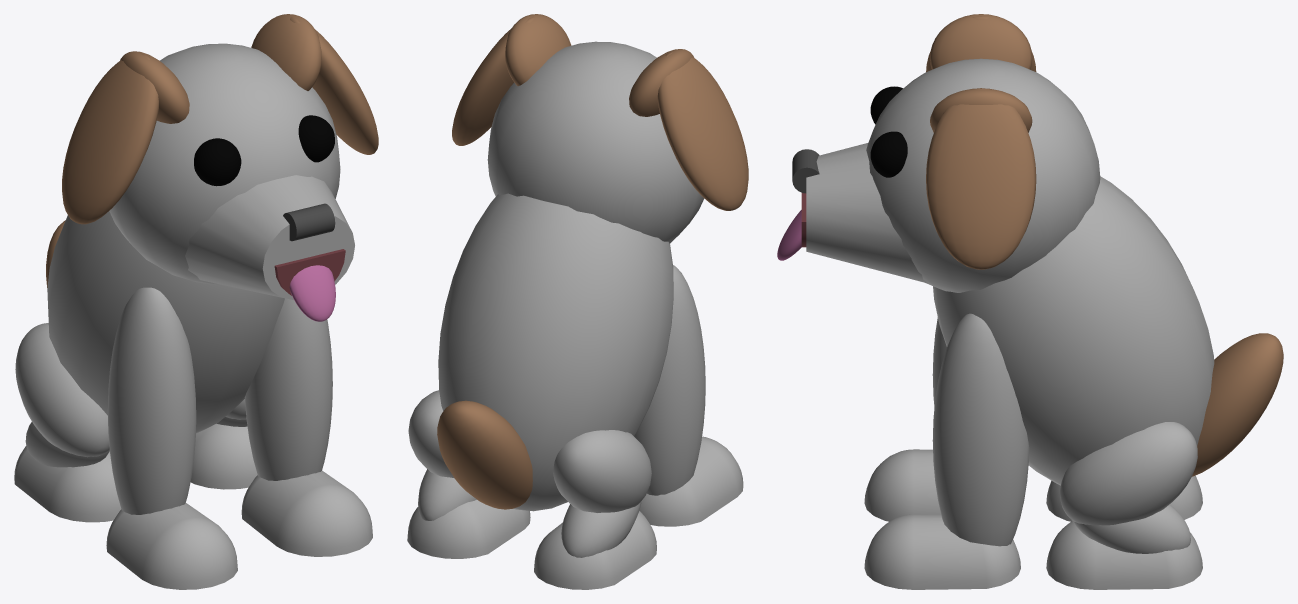
Rendered from Dog.fbx.
3 renders of one model, left to right at view 1: azimuth 30°, elevation 25°; view 2: azimuth 150°, elevation 25°; view 3: azimuth 270°, elevation 25°, orthographic. The views are drawn at different scales.
Parts seen in each view (by area): view 1: pSphere5, pSphere1, pSphere3, pasted__pSphere4, pasted__pSphere8, pCylinder1, pSphere4, pasted__pSphere3, pSphere8, pSphere2, pSphere7, pasted__pasted__pSphere3 (+2 smaller); view 2: pSphere3, pSphere1, pasted__pSphere8, pSphere4, pSphere5, pasted__pSphere3, pSphere6, pSphere8, pasted__pSphere4, pasted__pasted__pSphere3; view 3: pSphere3, pSphere1, pSphere5, pasted__pSphere8, pasted__pSphere4, pasted__pSphere3, pCylinder1, pSphere4, pSphere6, pSphere8, pasted__pasted__pSphere3, pSphere2 (+2 smaller).
Part boxes in pixels (x1,y1,x2,y2): pSphere5: (107,287,332,514); pSphere1: (109,43,340,284); pSphere3: (47,211,284,433); pasted__pSphere4: (106,470,372,589); pasted__pSphere8: (62,17,378,224); pCylinder1: (185,175,354,299); pSphere4: (14,423,257,522); pasted__pSphere3: (15,323,246,457); pSphere8: (120,14,321,123); pSphere2: (194,115,334,186); pSphere7: (289,265,335,321); pasted__pasted__pSphere3: (25,417,247,467); pSphere3: (438,193,673,511); pSphere1: (487,41,704,243); pasted__pSphere8: (452,16,748,210); pSphere4: (407,500,656,589); pSphere5: (634,265,705,495); pasted__pSphere3: (408,390,651,512); pSphere6: (437,400,532,509); pSphere8: (505,14,693,116); pasted__pSphere4: (639,436,743,526); pasted__pasted__pSphere3: (418,469,641,557); pSphere3: (933,176,1214,485); pSphere1: (866,58,1100,292); pSphere5: (932,313,1029,546); pasted__pSphere8: (926,16,1036,269); pasted__pSphere4: (864,449,1020,589); pasted__pSphere3: (1060,422,1197,525); pCylinder1: (806,143,929,283); pSphere4: (1046,475,1202,589); pSphere6: (1192,333,1283,476); pSphere8: (930,14,1032,132); pasted__pasted__pSphere3: (1071,504,1190,553); pSphere2: (870,86,907,177).
Size of the model in its own units: 2.86 by 4.51 by 4.25.
